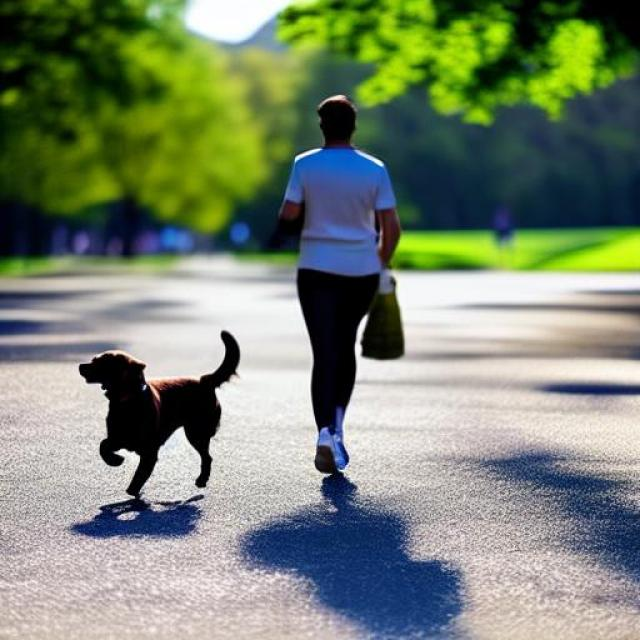Unleashed_Dog: (77, 285, 349, 501)
